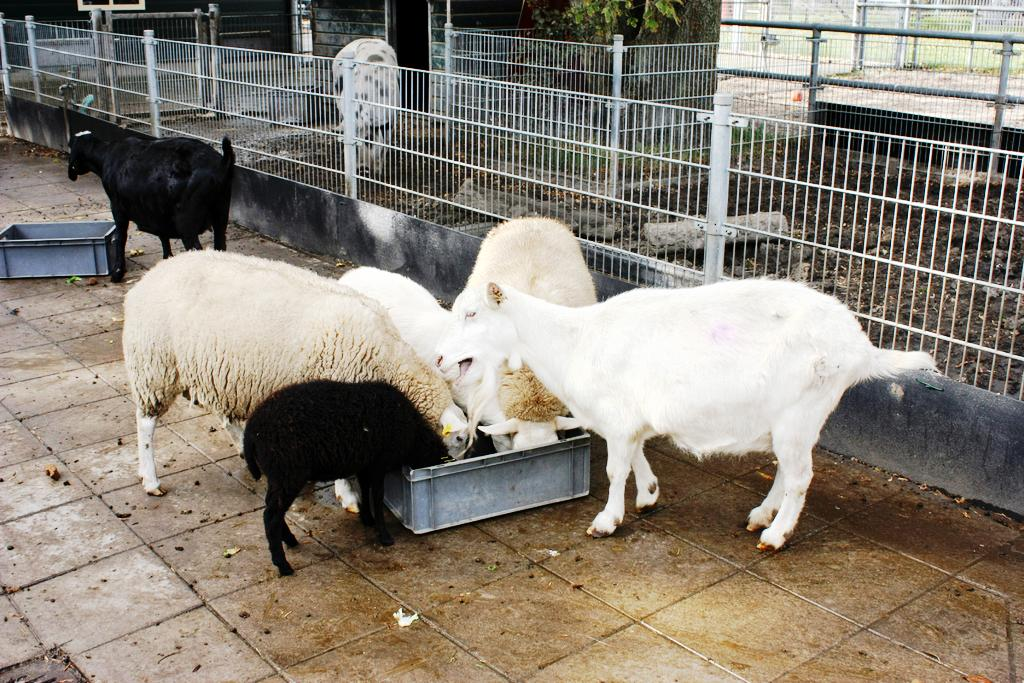Sheep: (108, 249, 470, 501), (244, 364, 458, 570), (452, 205, 598, 459)
